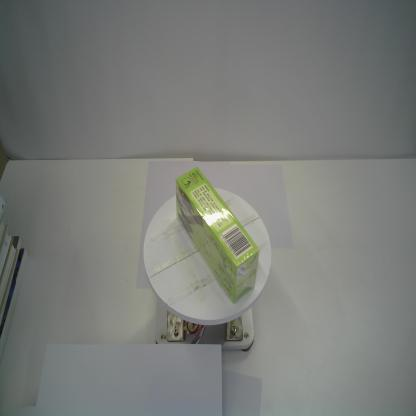Instant Drink: (174, 165, 262, 305)
